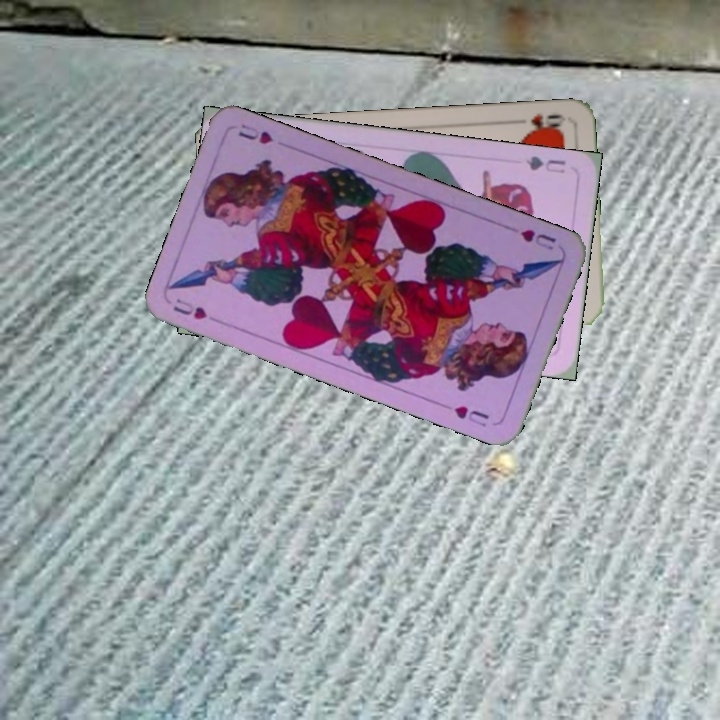GU: (522, 152, 568, 176)
HO: (521, 109, 568, 135)
HU: (516, 225, 559, 253), (169, 294, 210, 322)
